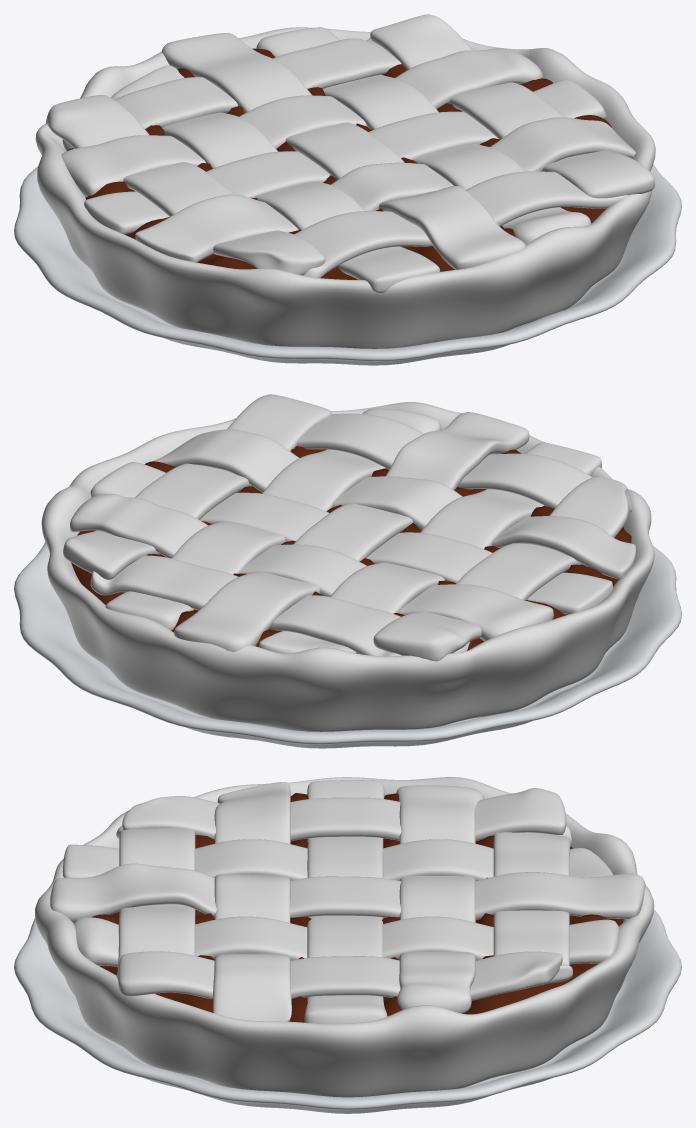
File: pie.fbx
3 renders of one model, top to bottom at view 1: azimuth 30°, elevation 25°; view 2: azimuth 150°, elevation 25°; view 3: azimuth 270°, elevation 25°, orthographic.
Parts seen in each view (by area): view 1: pie_cooked2, Circle.051, Cube; view 2: pie_cooked2, Circle.051, Cube; view 3: pie_cooked2, Circle.051, Cube.
Part boxes in pixels (x1=…): pie_cooked2: x1=35, y1=14, x2=655, y2=348; Circle.051: x1=14, y1=164, x2=681, y2=365; Cube: x1=67, y1=48, x2=611, y2=279; pie_cooked2: x1=41, y1=394, x2=654, y2=731; Circle.051: x1=14, y1=542, x2=681, y2=748; Cube: x1=71, y1=446, x2=631, y2=653; pie_cooked2: x1=35, y1=777, x2=654, y2=1097; Circle.051: x1=14, y1=910, x2=681, y2=1113; Cube: x1=73, y1=793, x2=623, y2=1022.
Bounding box in the file's own units: 190 × 35.61 × 190.
